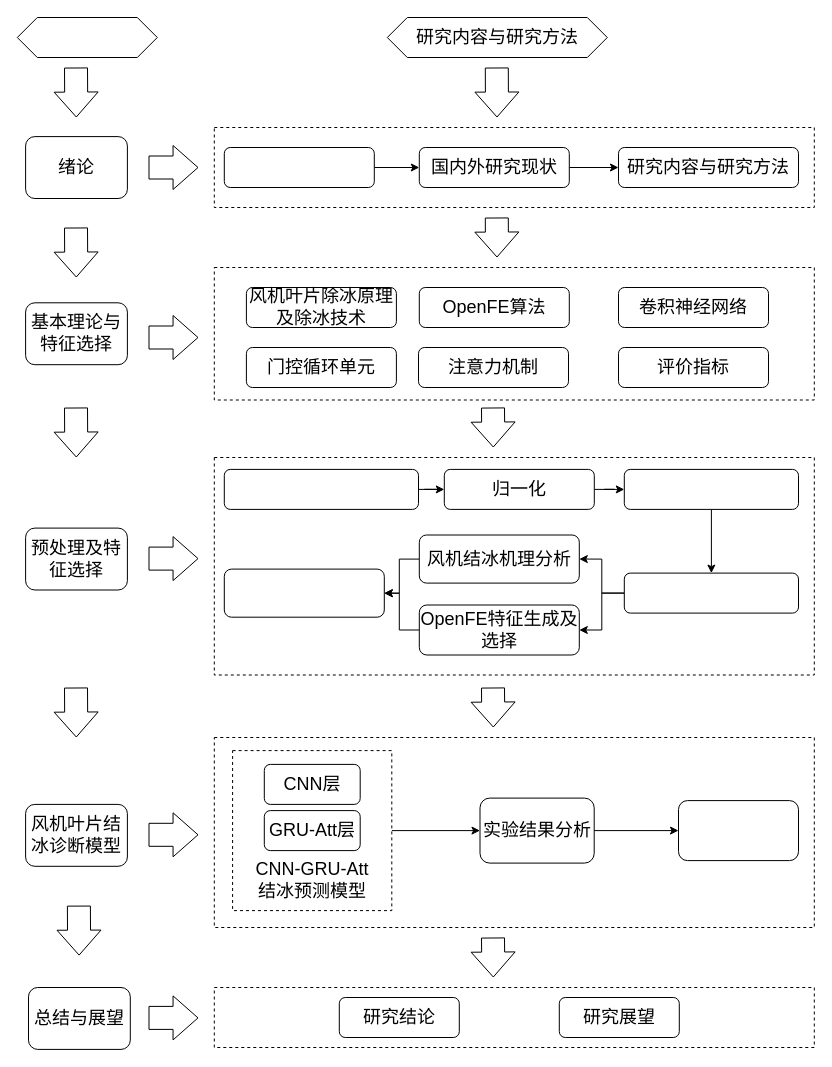
Image size: 832x1067. Some labels were removed from this diagram. Here are the shapes that lost their labels. From the top down, the centre of each, then its label:
At (86,37): "研究目标".
At (298,167): "研究背景与意义".
At (320,488): "风机叶片结冰样本选取".
At (710,488): "结冰特征重要性分析".
At (303,592): "融合的特征".
At (710,592): "结冰特征相关性分析".
At (738,830): "A公司风机叶片维护建议".
